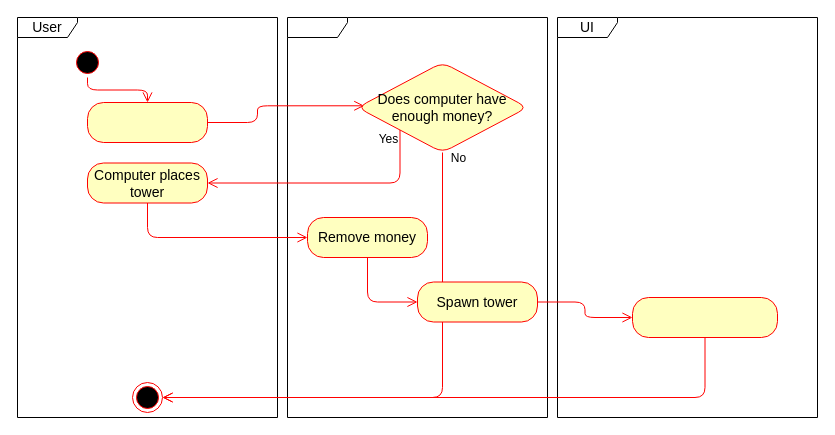
The diagram is 835 pixels wide and 435 high, and some of its shapes have lost their labels. Here are the shapes that lost their labels. From the top down, the box of each, then its label:
(86, 102, 208, 142): Computer selects tower
(286, 16, 548, 418): System
(632, 296, 778, 338): Display tower on field
